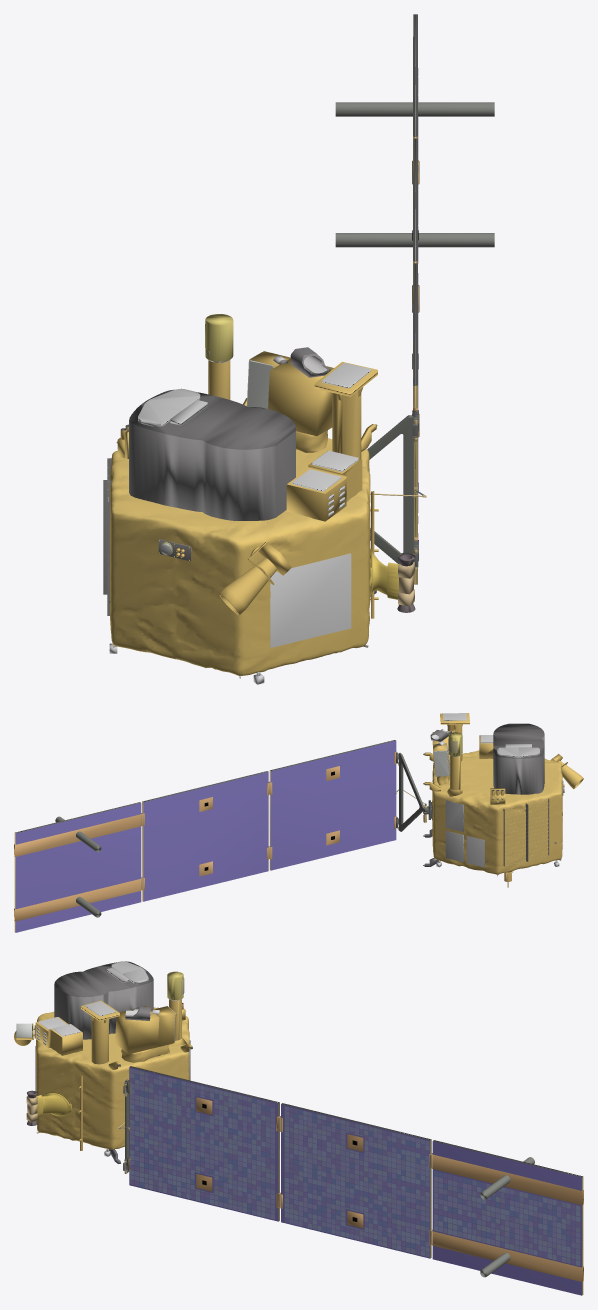
Rendered from earth-observing-1-eo-1.glb.
The picture shows the model from 3 angles, top to bottom: view 1: azimuth 30°, elevation 25°; view 2: azimuth 150°, elevation 25°; view 3: azimuth 270°, elevation 25°; orthographic projection. The views are drawn at different scales.
Visible parts, largest first — view 1: EO-1_vFINAL [Layer10]; view 2: EO-1_vFINAL [Layer10]; view 3: EO-1_vFINAL [Layer10].
Boxes of the visible parts, x1,y1,x2,y2 form: EO-1_vFINAL [Layer10]: (103, 14, 494, 684); EO-1_vFINAL [Layer10]: (14, 713, 583, 932); EO-1_vFINAL [Layer10]: (14, 961, 583, 1295).
Bounding box in the file's own units: 109 × 42.79 × 129.
1 material, 1 textured.
